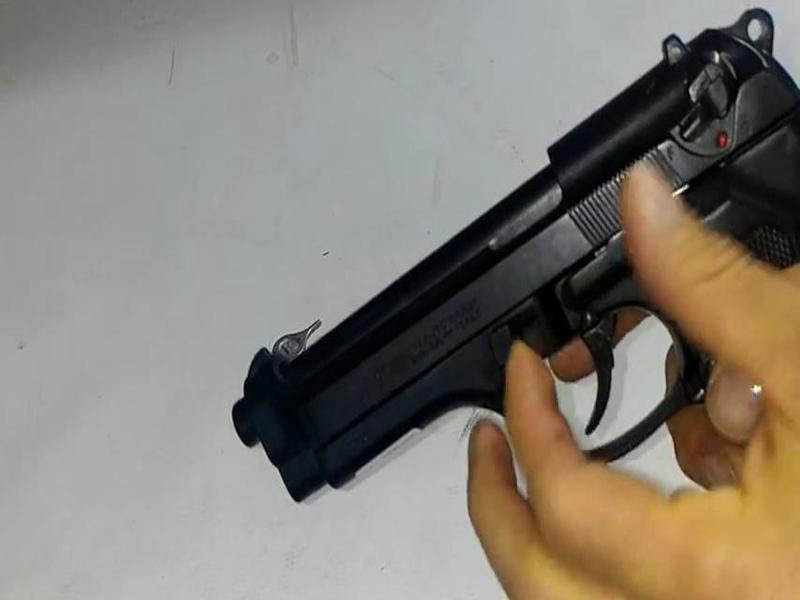Pistola: (215, 4, 800, 517)
